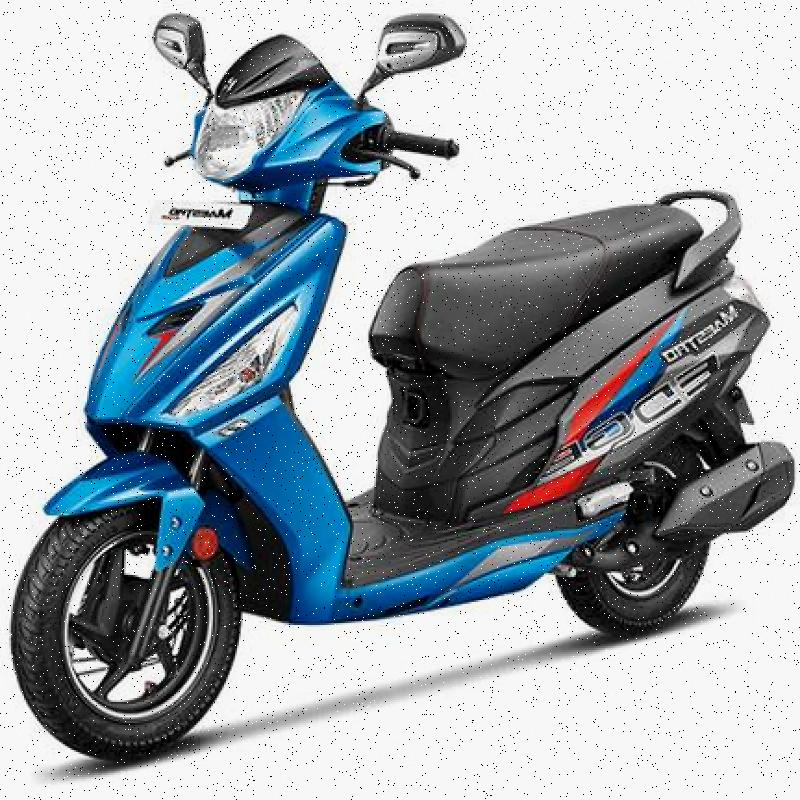bike: (8, 8, 792, 776)
